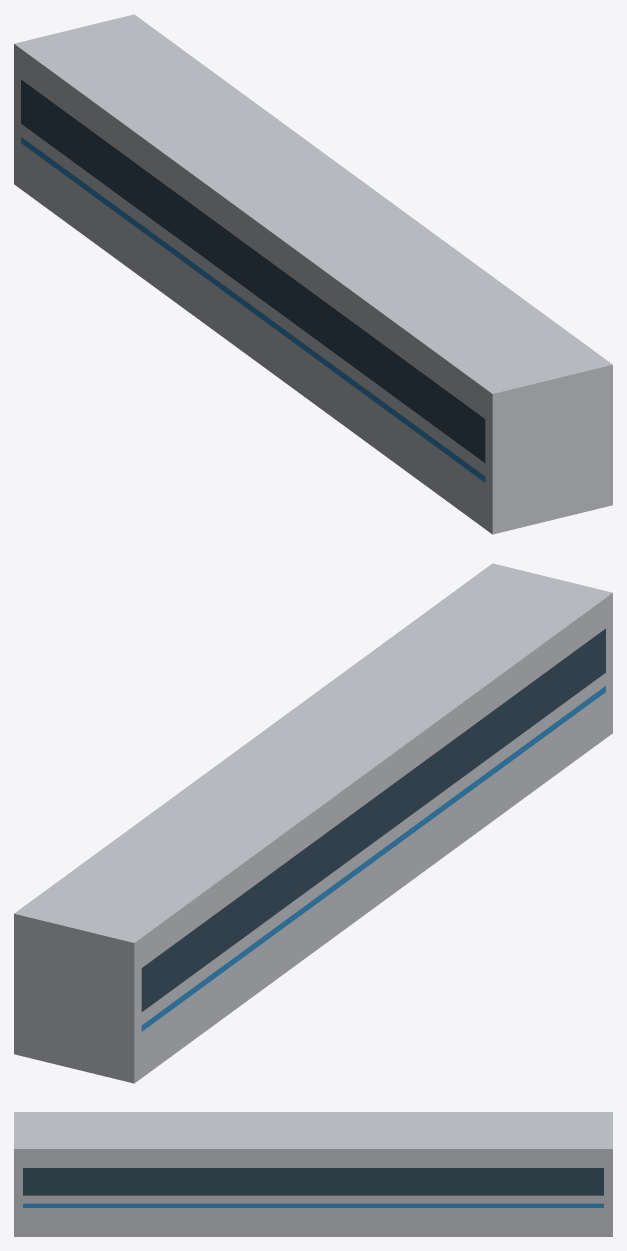
File: 374_far.fbx
3 renders of one model, top to bottom at view 1: azimuth 30°, elevation 25°; view 2: azimuth 150°, elevation 25°; view 3: azimuth 270°, elevation 25°, orthographic. The views are drawn at different scales.
Parts seen in each view (by area): view 1: 374_far; view 2: 374_far; view 3: 374_far.
Boxes of the visible parts, box(x1,y1,x2,y2) form: 374_far: box(14, 14, 612, 534); 374_far: box(14, 563, 612, 1083); 374_far: box(14, 1112, 612, 1236).
Bounding box in the file's own units: 2.91 × 3.24 × 20.
